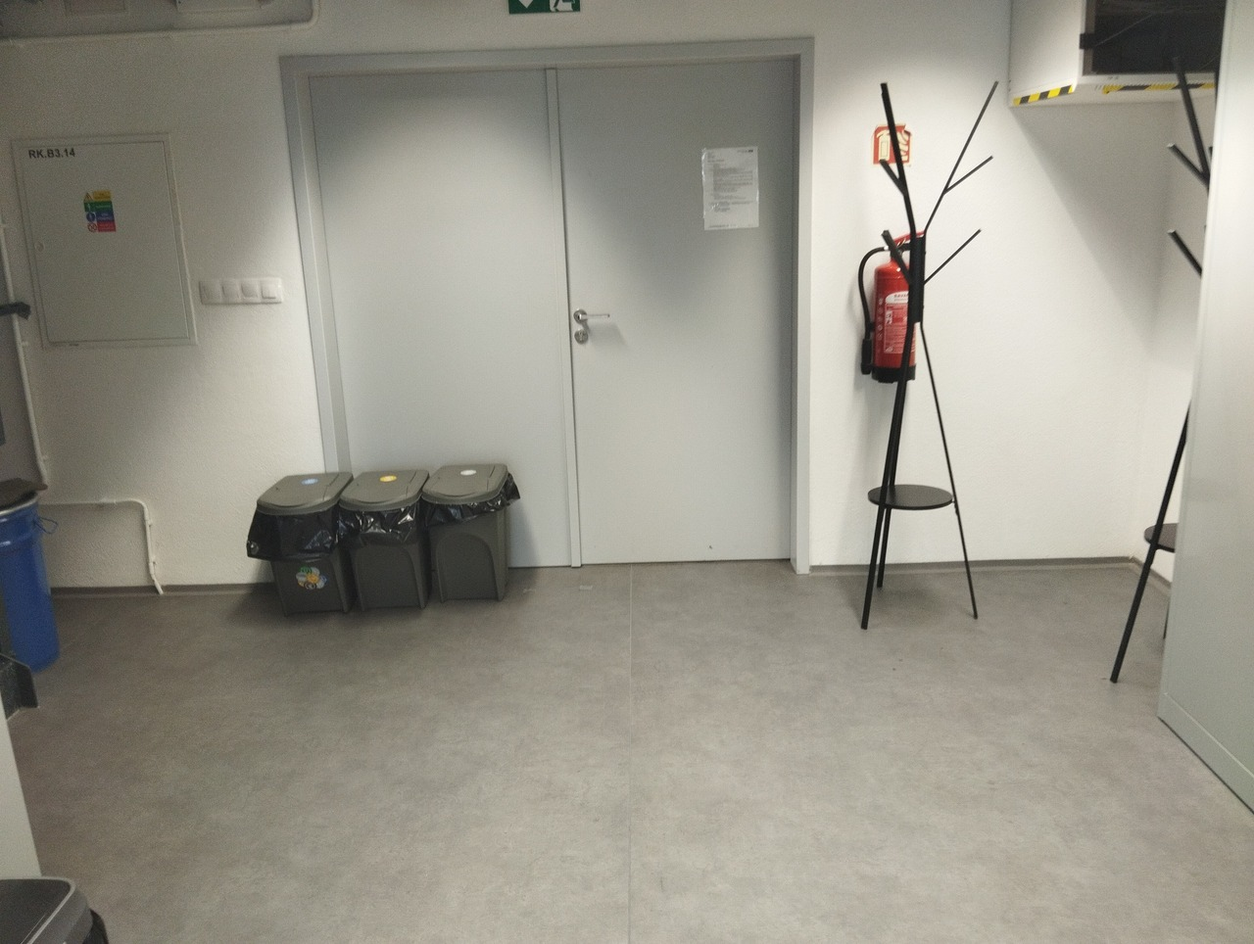Door-handle: (881, 483, 951, 511), (1142, 521, 1173, 554), (572, 309, 591, 343)
